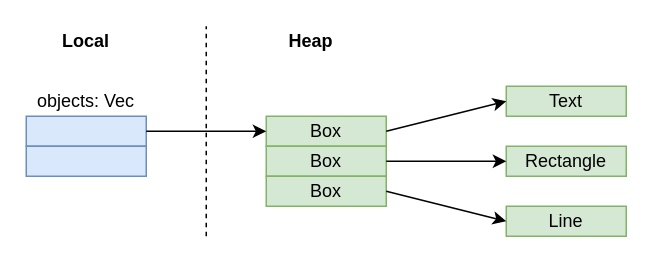
The diagram is 653 pixels wide and 264 high, and some of its shapes have lost their labels. Here are the shapes that lost their labels. From the top down, the centre of each, then its label:
pixel 85 130: items
pixel 85 160: len: 3
